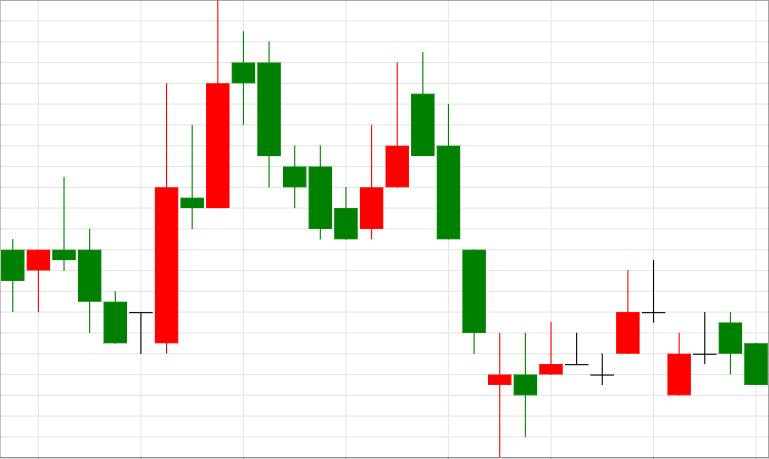inverse_hammer_rise: (232, 30, 383, 240)
